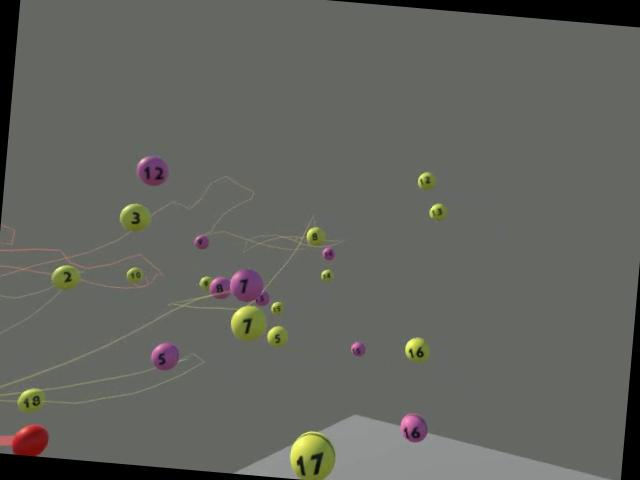ball_02_yellow: (50, 264, 80, 290)
ball_03_yellow: (118, 201, 150, 232)
ball_05_pink: (148, 340, 180, 371)
ball_05_yellow: (264, 324, 288, 348)
ball_07_pink: (228, 266, 264, 302)
ball_07_yellow: (228, 302, 266, 342)
ball_08_pink: (208, 274, 230, 300)
ball_08_yellow: (304, 224, 326, 246)
ball_09_pink: (193, 233, 209, 249)
ball_09_yellow: (198, 274, 212, 290)
ball_10_yellow: (126, 266, 142, 282)
ball_12_pink: (134, 153, 169, 186)
ball_14_pink: (320, 245, 334, 260)
ball_14_yellow: (320, 267, 332, 281)
ball_15_pink: (349, 340, 365, 356)
ball_15_yellow: (270, 300, 282, 314)
ball_16_pink: (398, 411, 428, 443)
ball_16_yellow: (403, 335, 430, 362)
ball_17_yellow: (286, 428, 336, 480)
ball_18_yellow: (15, 386, 45, 412)
ball_22_yellow: (416, 170, 436, 190)
ball_23_yellow: (428, 201, 447, 220)
ball_unknown: (253, 288, 270, 306)
user_cursor: (9, 421, 49, 456)
